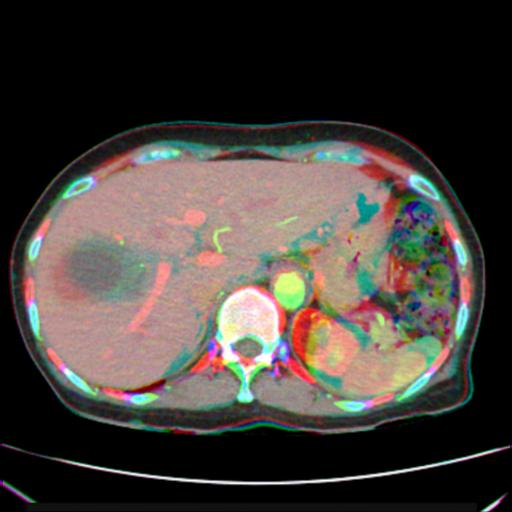Abscess: (70, 241, 121, 299)
